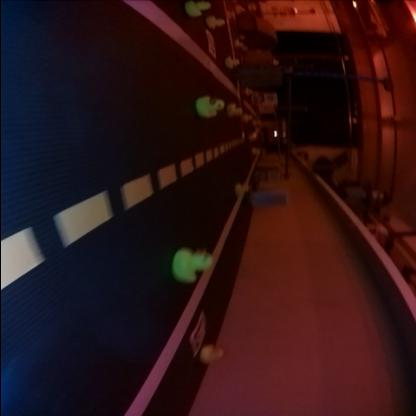Duckie: (174, 249, 212, 282), (196, 97, 224, 116), (200, 345, 226, 365), (186, 2, 210, 16), (225, 104, 242, 116), (223, 57, 240, 68), (207, 18, 225, 28), (234, 183, 249, 195)
QR code: (190, 312, 206, 354), (207, 32, 215, 58)
